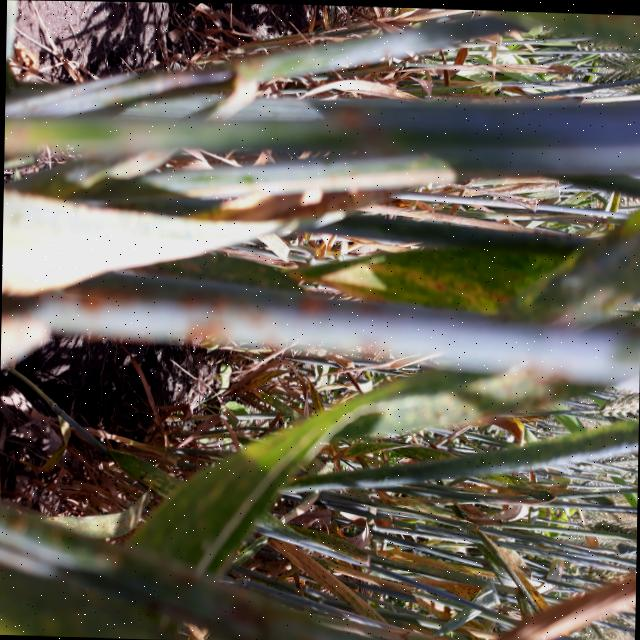black_stem_rust: (0, 50, 640, 467), (0, 389, 638, 640), (403, 6, 640, 54)
